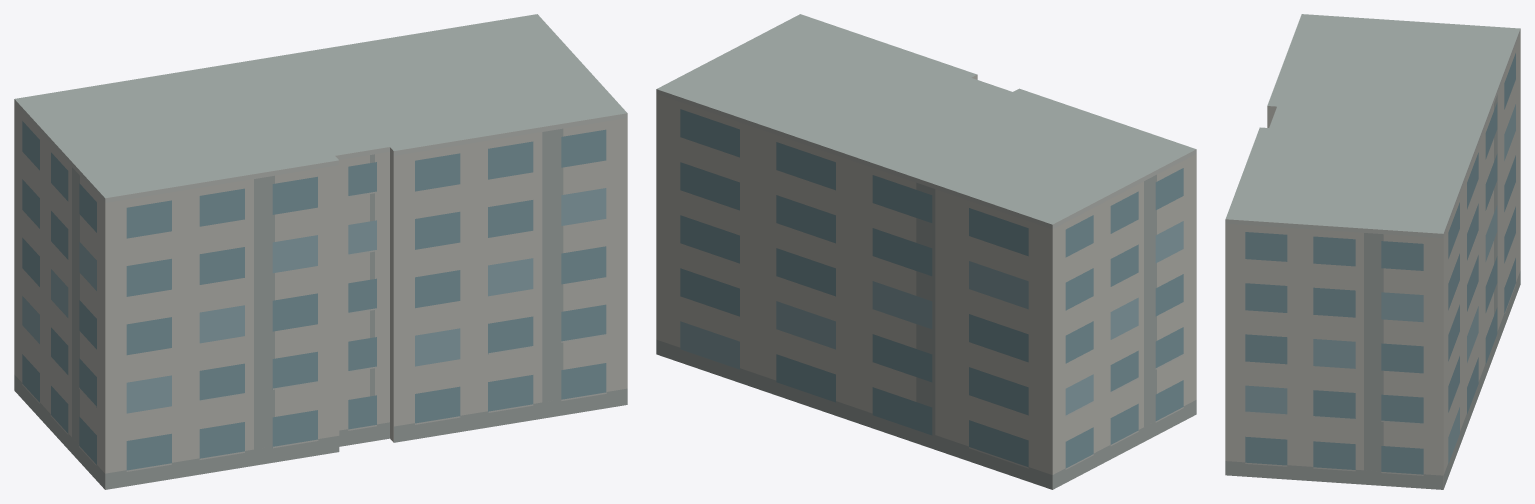
The model's file is survey-upis-32991564.glb.
3 renders of one model, left to right at view 1: azimuth 30°, elevation 25°; view 2: azimuth 150°, elevation 25°; view 3: azimuth 270°, elevation 25°, orthographic. The views are drawn at different scales.
Visible parts, largest first — view 1: survey-upis-32991564.tmp; view 2: survey-upis-32991564.tmp; view 3: survey-upis-32991564.tmp.
Boxes of the visible parts, x1,y1,x2,y2 form: survey-upis-32991564.tmp: (14,14,627,489); survey-upis-32991564.tmp: (656,14,1196,489); survey-upis-32991564.tmp: (1225,14,1520,489).
Bounding box in the file's own units: 26.43 × 14.35 × 15.
